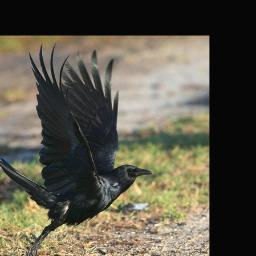Crow: (0, 41, 154, 256)
